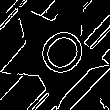O_SW: (21, 17, 86, 84)
